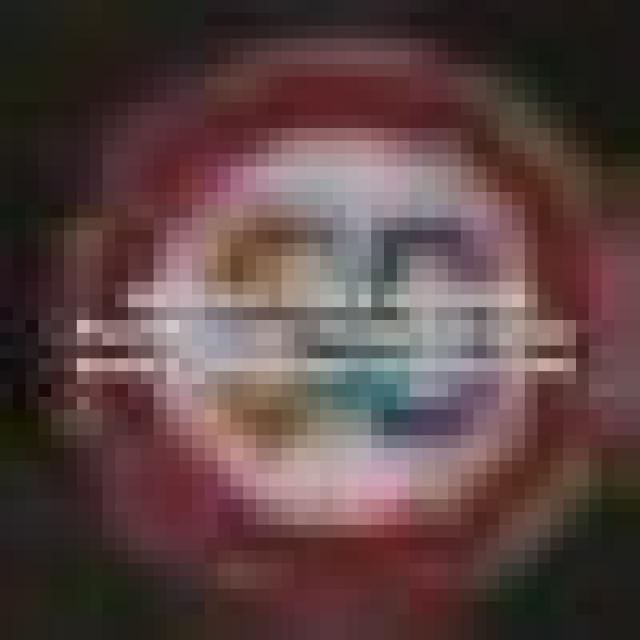SPEED_LIMIT_50: (51, 38, 589, 576)
